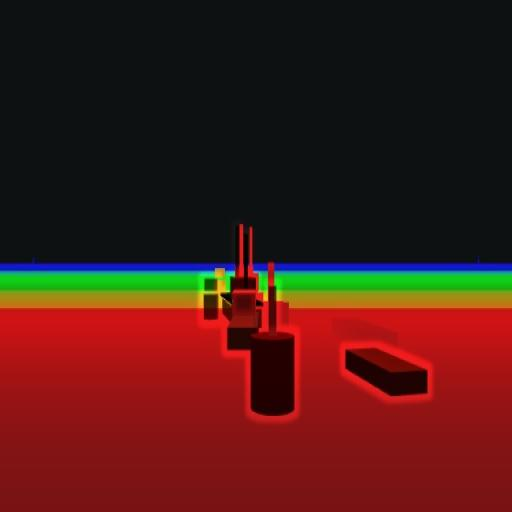floating_obstacle: (250, 282, 299, 417)
